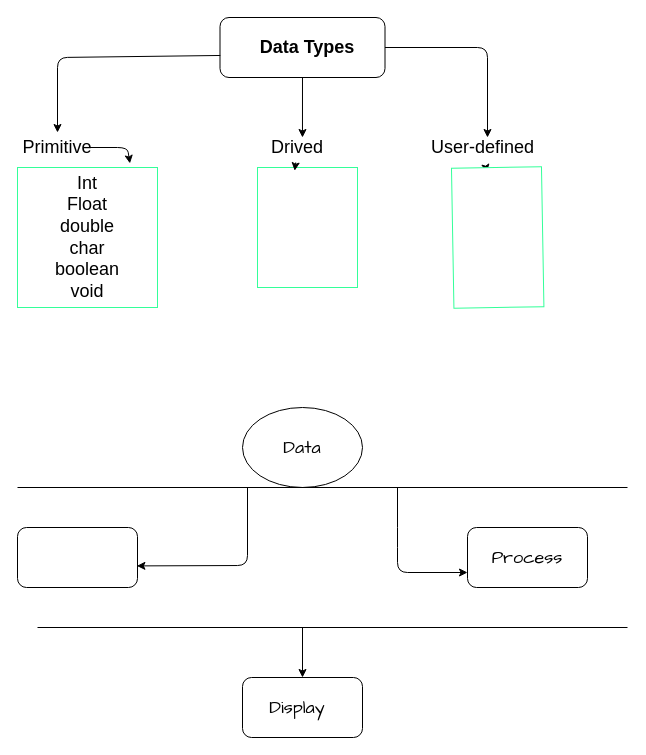
Image size: 646x755. Some labels were removed from this diagram. Here are the shapes that lost their labels. From the top down, the centre of each, then its label:
At (307,227): "Array function pointer reference".
At (497,237): "Structure Union Enum Class Typedef".
At (77,557): "Store".
